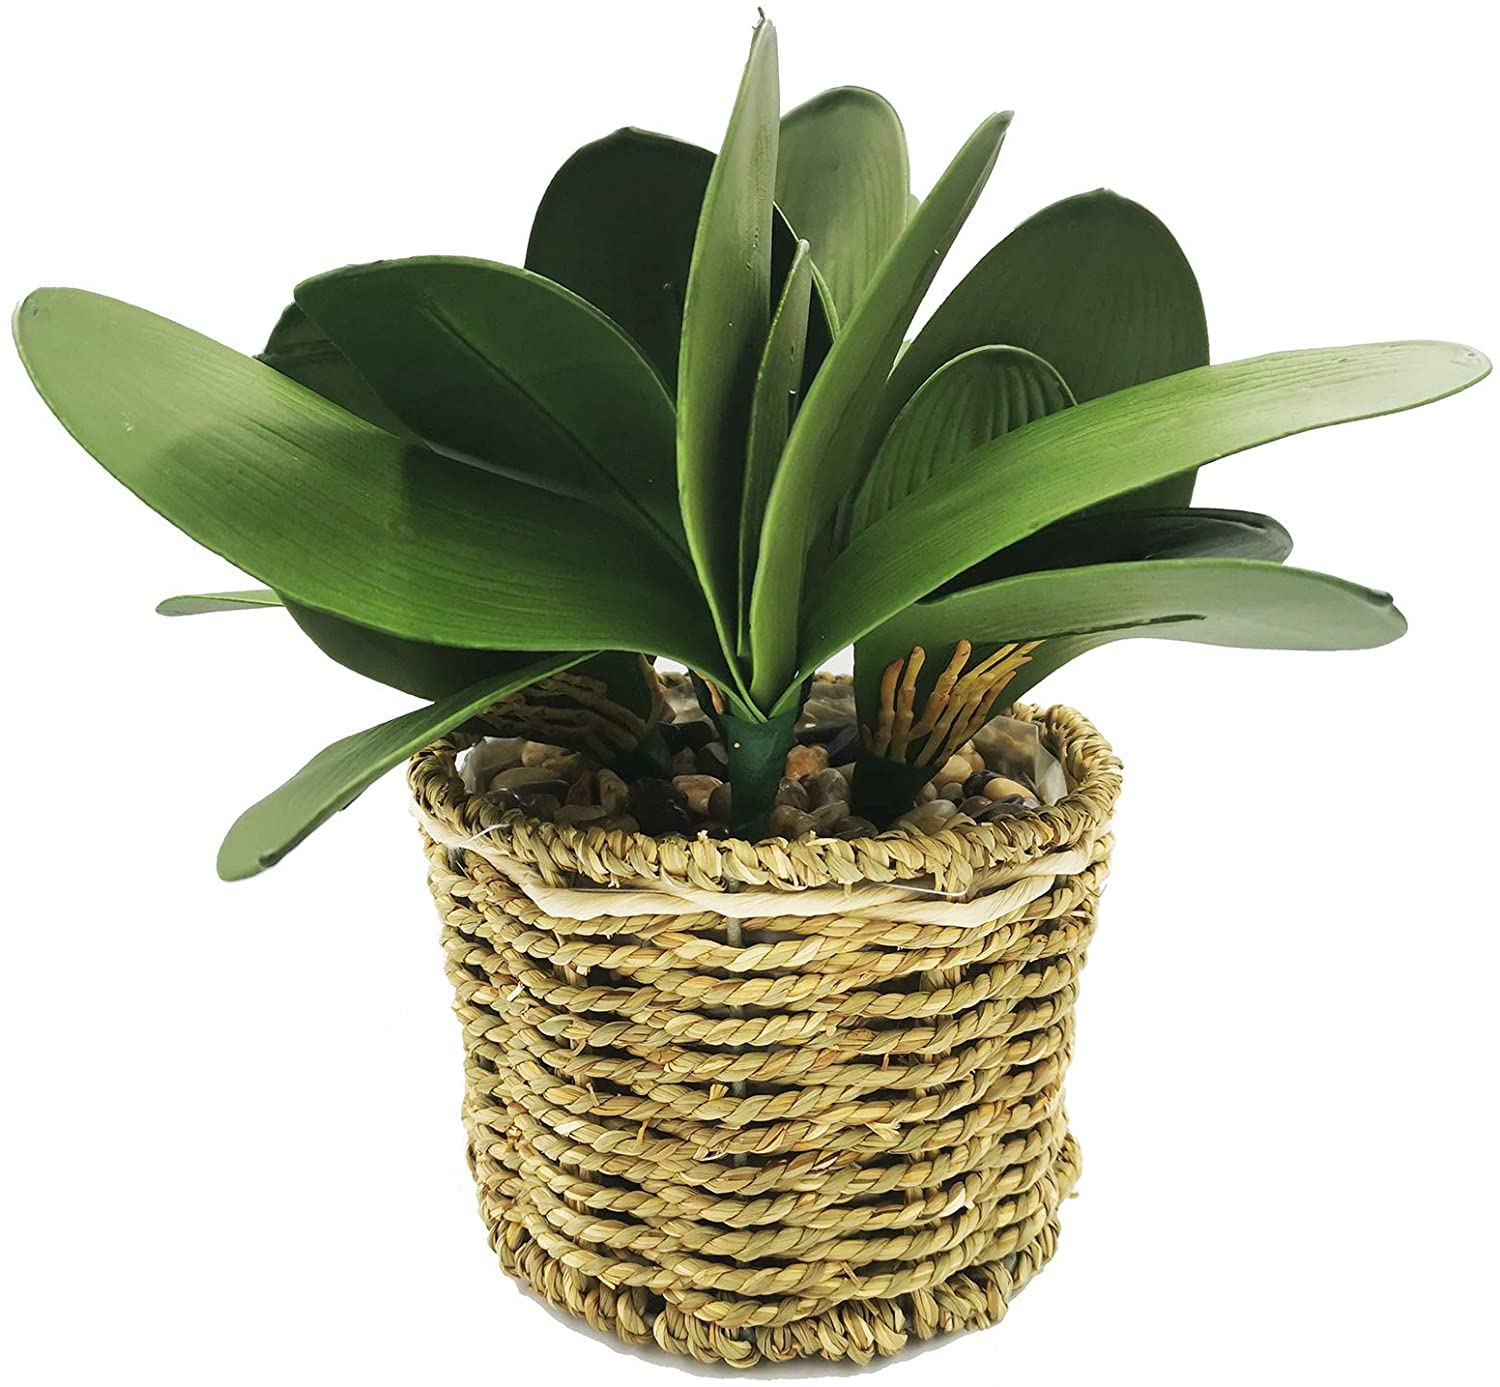tanaman: (20, 101, 1440, 1361)
